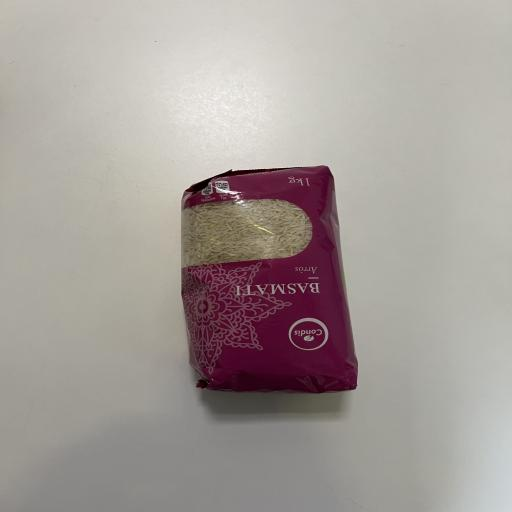rice: (168, 154, 366, 402)
